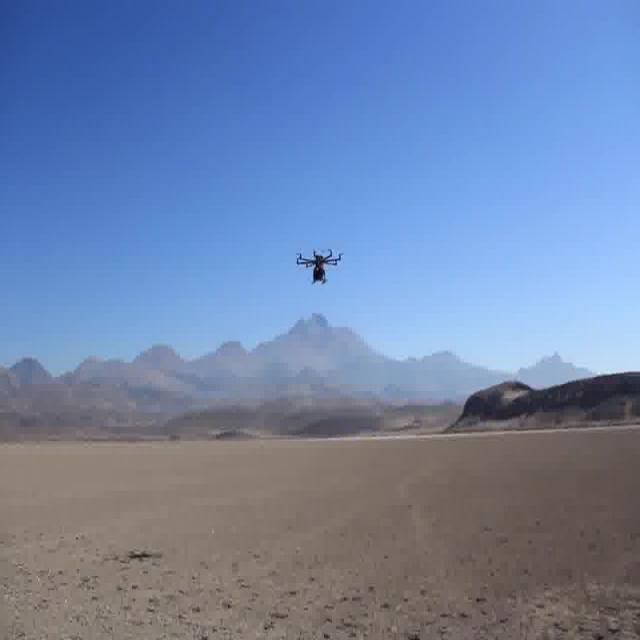Drone_FW: (296, 247, 344, 285)
